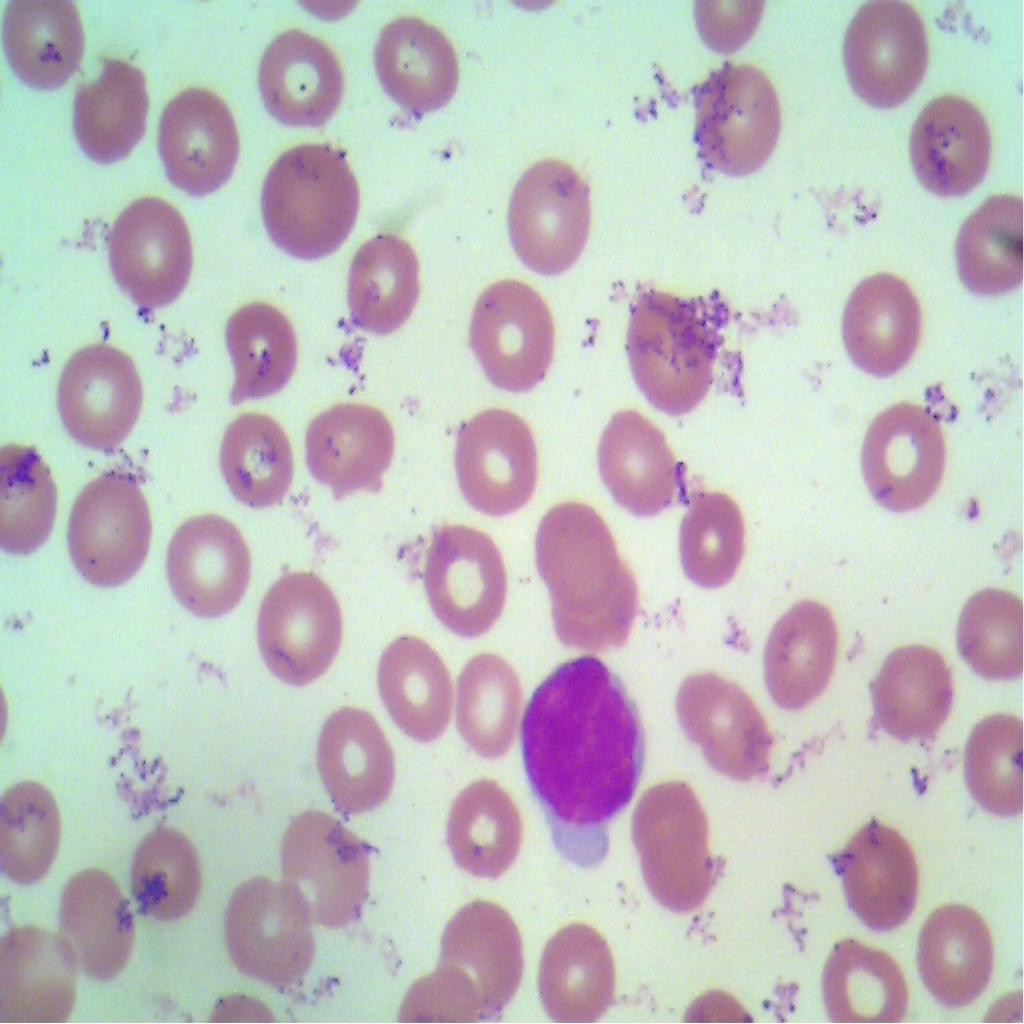Eritrosit: (844, 388, 953, 527), (618, 280, 718, 424), (904, 88, 1011, 218), (674, 657, 779, 788), (256, 141, 366, 264), (676, 61, 786, 184), (628, 774, 718, 920), (498, 148, 594, 281), (836, 808, 924, 952), (831, 265, 938, 382), (223, 871, 326, 989), (288, 808, 381, 938), (246, 26, 352, 140), (64, 51, 156, 180), (120, 799, 206, 934), (106, 198, 198, 324), (431, 904, 531, 1018), (831, 0, 931, 112), (468, 275, 558, 398), (416, 524, 510, 641), (66, 471, 158, 589), (590, 398, 676, 524), (758, 597, 844, 721), (942, 184, 1023, 314), (61, 867, 151, 984), (302, 394, 395, 506), (162, 508, 251, 625), (255, 570, 346, 684), (302, 698, 396, 808), (369, 10, 459, 124), (524, 911, 615, 1023), (448, 412, 544, 518), (526, 497, 618, 607), (915, 894, 1004, 1007), (868, 638, 956, 751), (215, 288, 302, 402), (0, 0, 94, 105), (344, 221, 424, 343), (375, 627, 454, 748), (448, 632, 526, 754), (809, 928, 909, 1023), (63, 340, 146, 454), (158, 91, 243, 198), (446, 774, 526, 886), (216, 395, 293, 511), (6, 912, 86, 1023), (546, 558, 641, 648), (675, 485, 756, 586), (961, 694, 1023, 824), (0, 772, 66, 885), (956, 584, 1023, 684), (0, 442, 56, 554)
Limfoblast: (516, 651, 651, 831)
